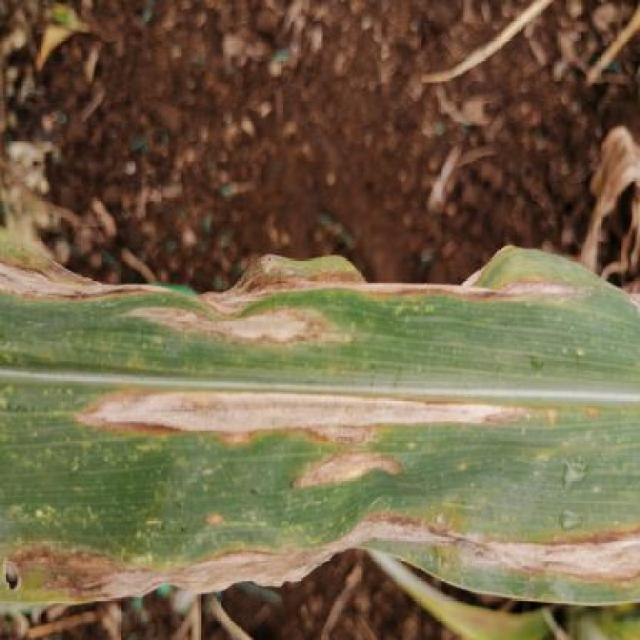Corn_Leaf_Blight: (0, 225, 640, 626)
